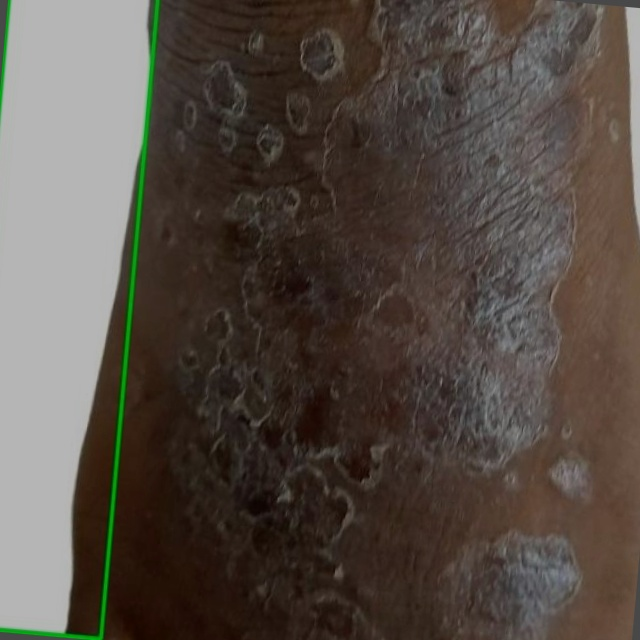Contact Dermatitis: (0, 0, 157, 639)
